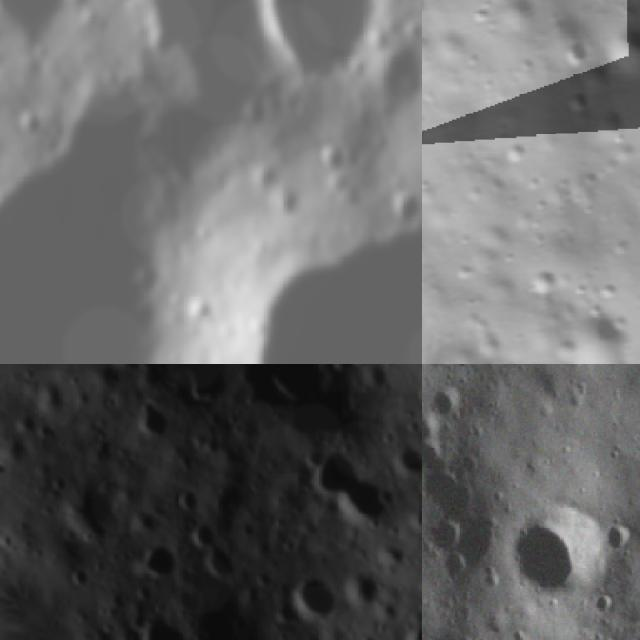crater: (257, 0, 392, 103), (508, 496, 612, 605), (51, 472, 142, 564), (287, 428, 376, 516), (322, 473, 404, 554), (251, 364, 359, 424), (554, 308, 640, 364), (282, 566, 350, 632), (121, 394, 187, 460), (136, 532, 199, 596), (0, 0, 86, 45), (594, 14, 640, 91), (198, 534, 256, 590), (519, 256, 578, 306), (180, 510, 232, 562), (132, 608, 204, 640), (168, 480, 215, 527), (179, 288, 222, 339), (383, 183, 422, 234), (311, 136, 354, 180), (491, 134, 534, 178), (91, 364, 162, 387), (62, 558, 101, 598), (559, 88, 598, 125), (429, 513, 466, 550), (439, 551, 474, 589), (429, 386, 464, 423), (422, 437, 458, 471), (608, 522, 632, 558), (586, 595, 619, 618), (422, 235, 435, 286), (0, 364, 7, 407)
